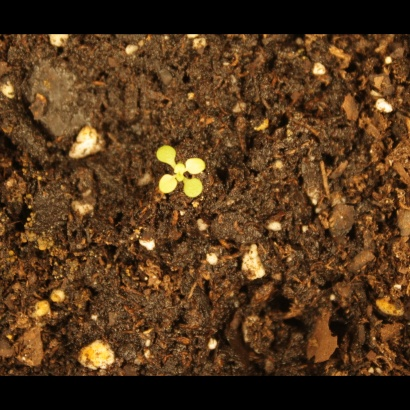leaf: (184, 152, 209, 179), (182, 177, 205, 201), (155, 144, 178, 167), (156, 173, 179, 196)
